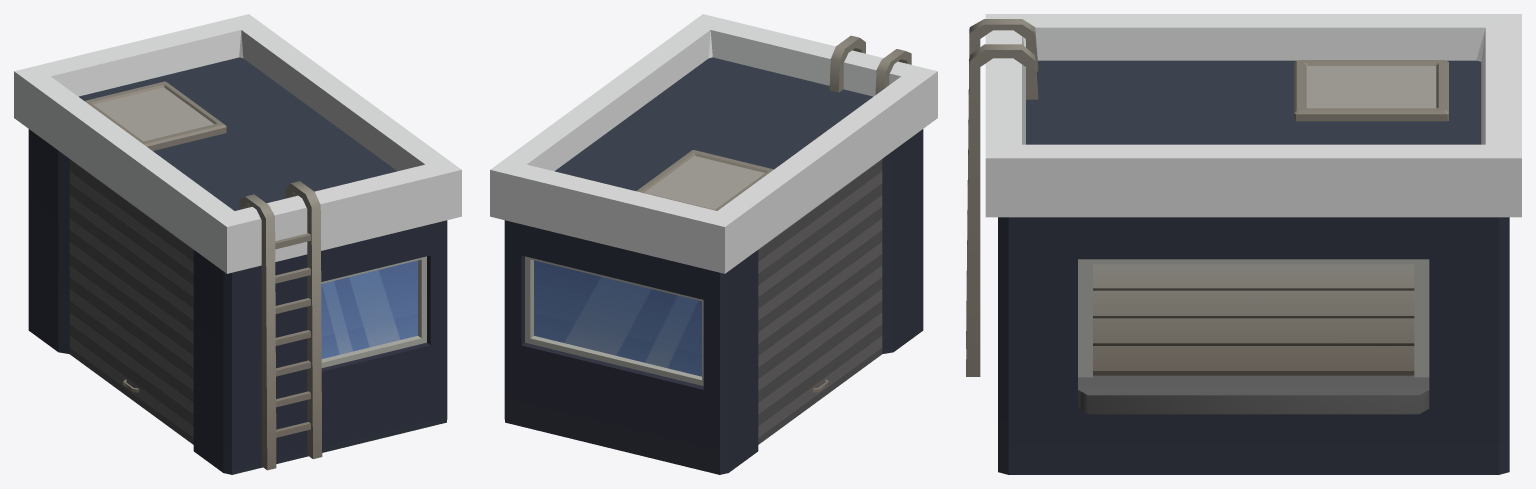
File: Kiosk_1_A.glb
3 views of the same model, side by side, from view 1: azimuth 30°, elevation 25°; view 2: azimuth 150°, elevation 25°; view 3: azimuth 270°, elevation 25° (orthographic). The views are drawn at different scales.
Parts seen in each view (by area): view 1: Kiosk_1_A; view 2: Kiosk_1_A; view 3: Kiosk_1_A.
Boxes of the visible parts, x1,y1,x2,y2 form: Kiosk_1_A: [14, 14, 461, 474]; Kiosk_1_A: [490, 14, 937, 474]; Kiosk_1_A: [966, 14, 1521, 474].
Size of the model in its own units: 2.97 by 3.04 by 4.54.
Materials: 4 (4 with a texture image).
